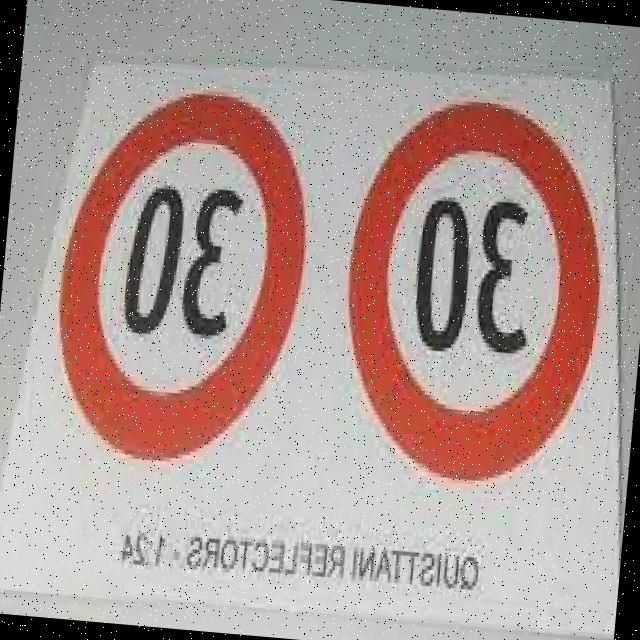speed_limit_30: (318, 84, 630, 498), (36, 71, 322, 476)
